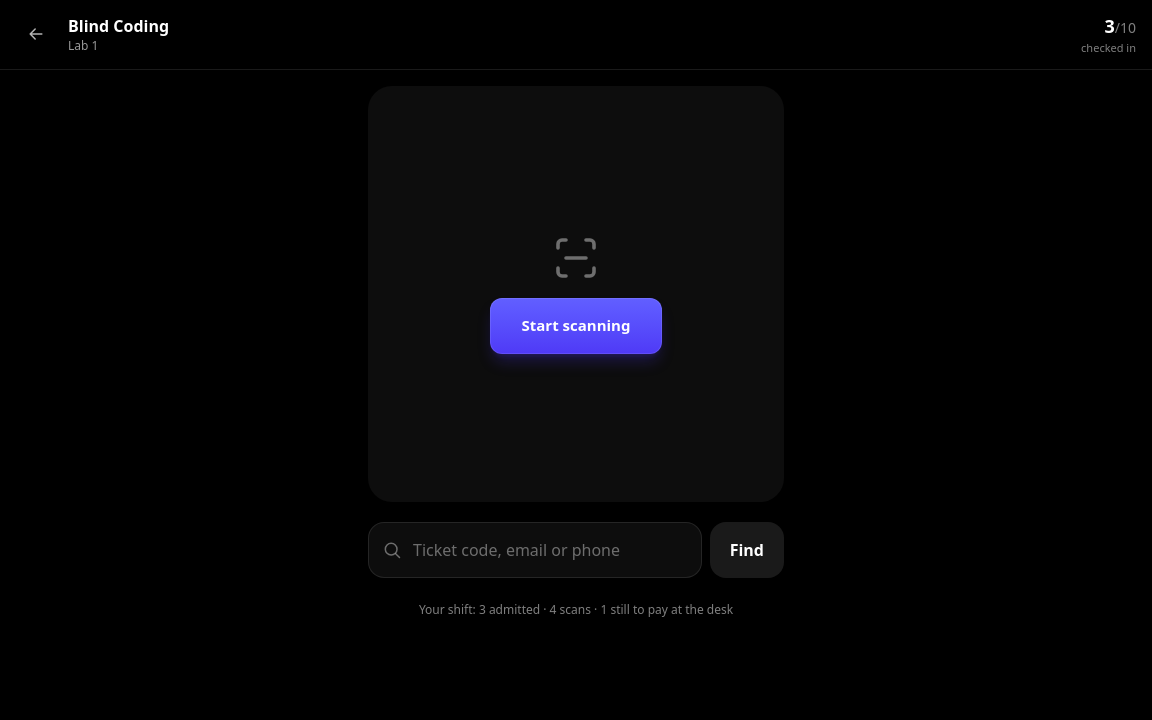
Test: gate scanner › payment due: "₹100 received" records the desk payment, then the same ticket is admitted
The image size is (1152, 720).
Type "TCK-AB12-CD" into the field with placeholder "Ticket code, email or phone" at {"x": 535, "y": 550}, box [368, 522, 702, 578]
Then press Enter
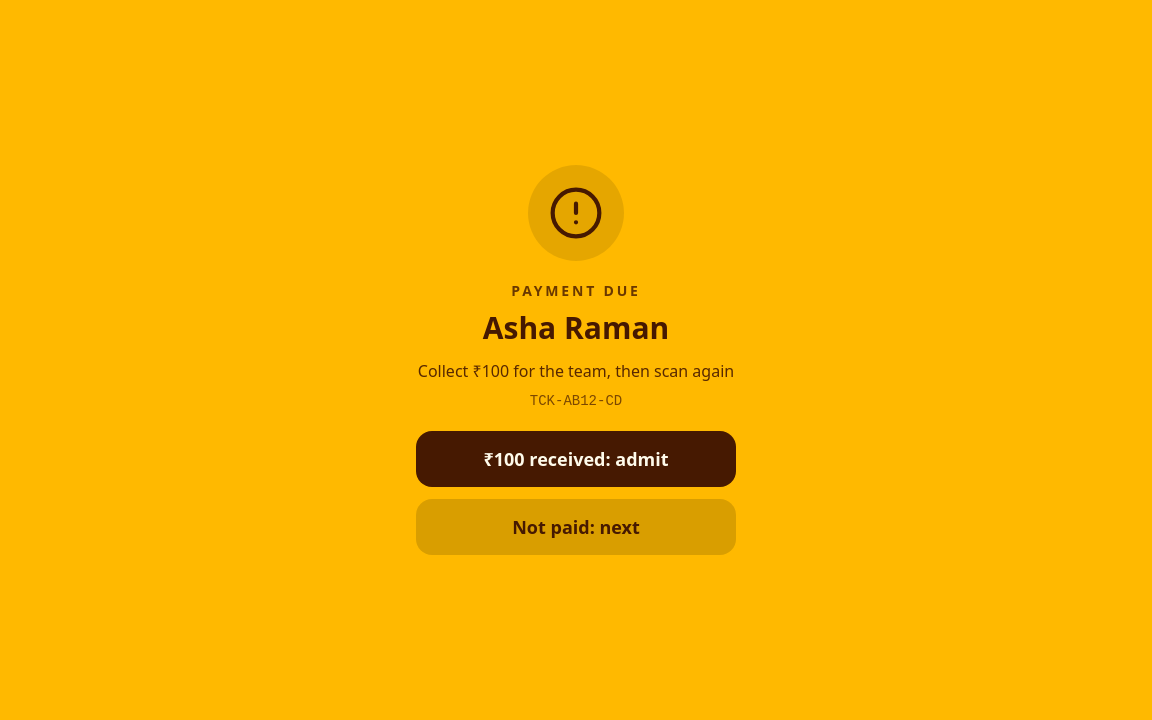
Result: the dialog "Payment due" is shown
Click the button "₹100 received: admit" at {"x": 576, "y": 459}, box [416, 431, 736, 487]
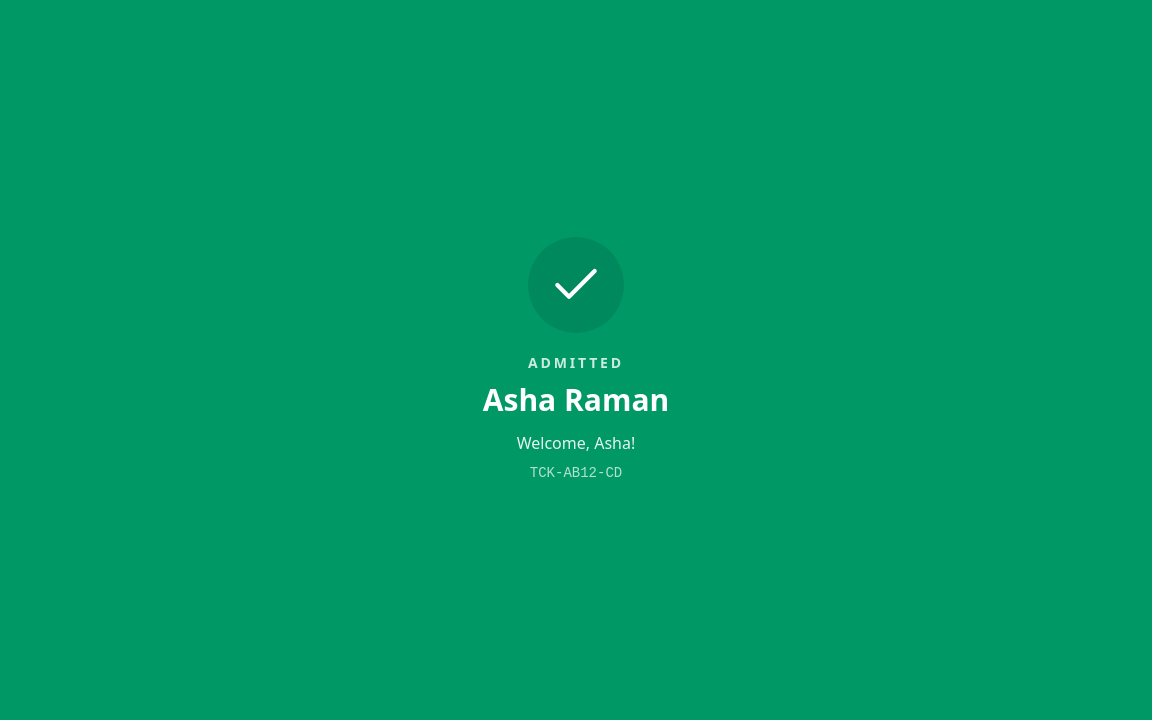
Result: the dialog "Admitted" is shown
